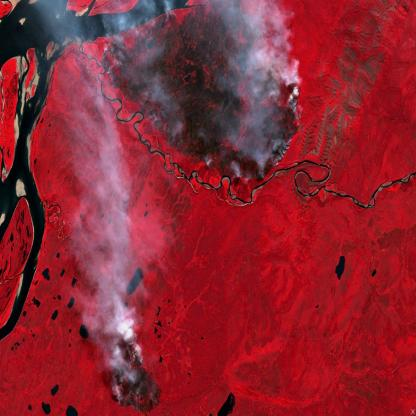fire: (226, 63, 299, 185), (107, 337, 154, 416)
